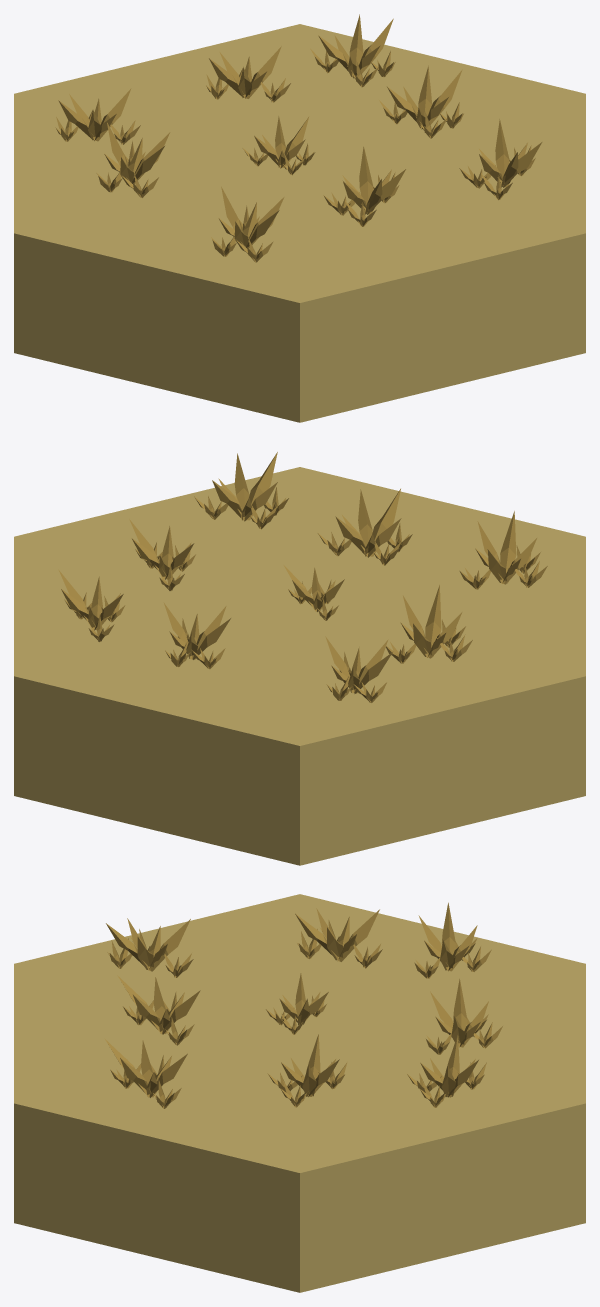
Rendered from Arido.fbx.
3 renders of one model, top to bottom at view 1: azimuth 30°, elevation 25°; view 2: azimuth 150°, elevation 25°; view 3: azimuth 270°, elevation 25°, orthographic.
Visible parts, largest first — view 1: Arido; view 2: Arido; view 3: Arido.
Part boxes in pixels (x1,y1,x2,y2): Arido: (14,14,585,422); Arido: (14,452,585,865); Arido: (14,894,585,1292).
Size of the model in its own units: 200 by 58.14 by 173.
